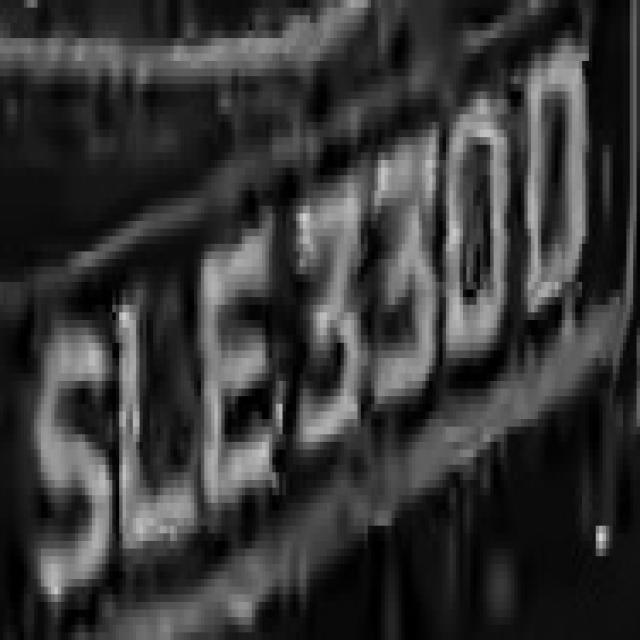0: (429, 84, 514, 381)
3: (361, 107, 446, 434), (282, 152, 368, 465)
D: (514, 23, 596, 350)
E: (201, 221, 289, 556)
L: (112, 252, 198, 594)
S: (24, 282, 105, 625)
